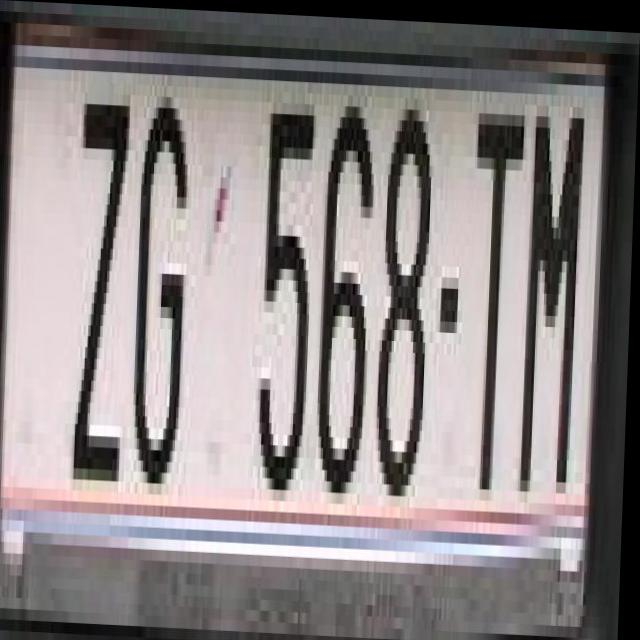5: (254, 77, 323, 477)
6: (318, 80, 378, 490)
8: (373, 82, 440, 493)
G: (131, 83, 193, 494)
M: (522, 110, 587, 488)
T: (466, 86, 531, 497)
Z: (75, 81, 136, 469)
